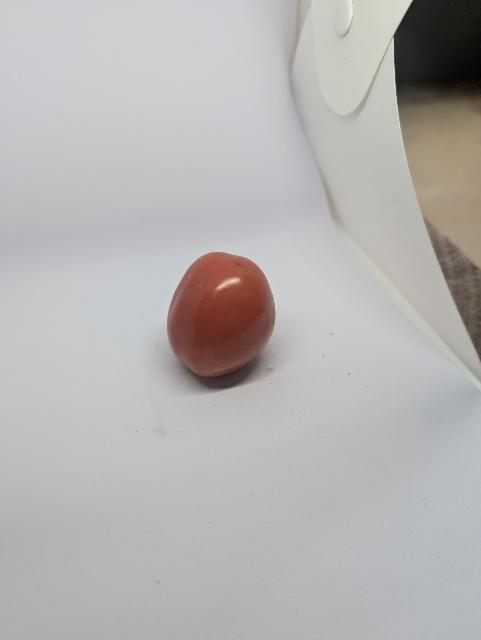red: (164, 238, 280, 390)
